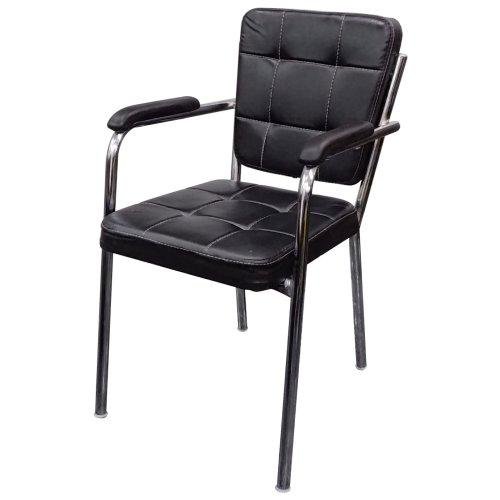chair: (86, 2, 411, 492)
